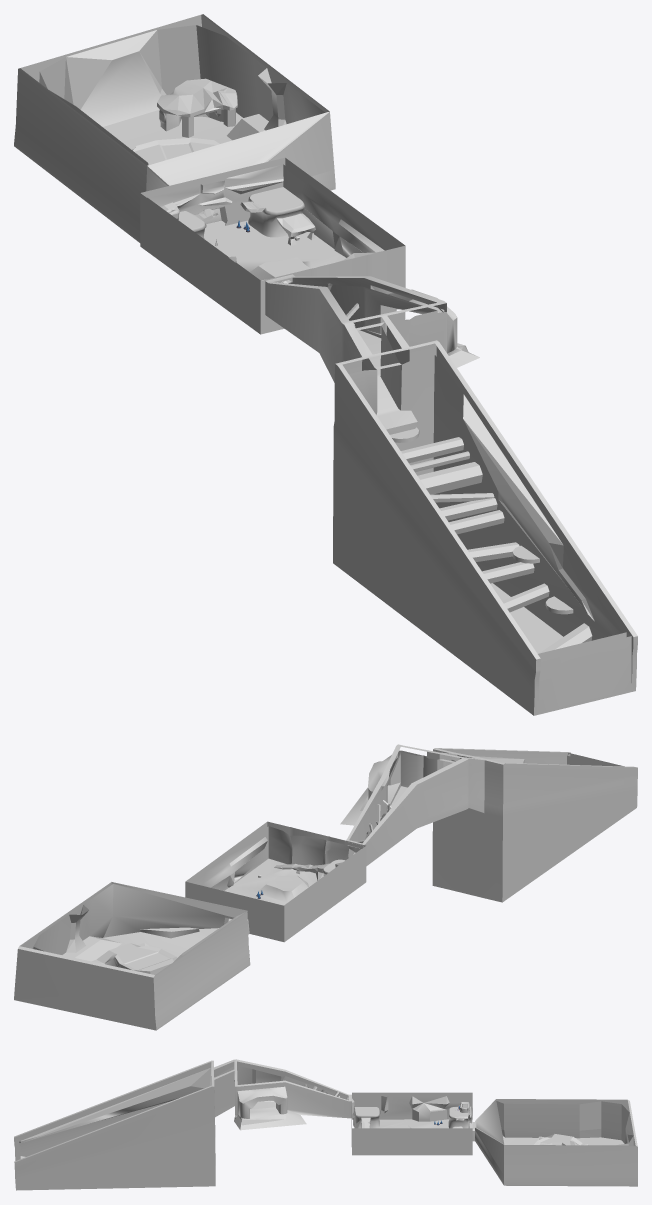
Rendered from Caverne_dontuse.fbx.
3 views of the same model, one above another, from view 1: azimuth 30°, elevation 25°; view 2: azimuth 150°, elevation 25°; view 3: azimuth 270°, elevation 25° (orthographic). The views are drawn at different scales.
Visible parts, largest first — view 1: Y_room, Main_room, Low_room_pillar001, Platform, Mini_caverne, Octi_main_Area, Low_room_pillar, Low_room_halfcylinder; view 2: Main_room, Y_room, Octi_main_Area, Platform; view 3: Y_room, Main_room, Platform, Octi_main_Area.
Part boxes in pixels (box(x1,y1,x2,y2)): Y_room: box(265, 274, 637, 715); Main_room: box(14, 14, 405, 334); Low_room_pillar001: box(401, 437, 592, 653); Platform: box(178, 187, 315, 280); Mini_caverne: box(157, 78, 237, 137); Octi_main_Area: box(132, 137, 219, 164); Low_room_pillar: box(417, 462, 482, 494); Low_room_halfcylinder: box(390, 427, 573, 614); Main_room: box(14, 821, 366, 1030); Y_room: box(340, 744, 637, 902); Octi_main_Area: box(92, 943, 176, 971); Platform: box(274, 859, 345, 880); Y_room: box(14, 1059, 351, 1190); Main_room: box(351, 1092, 637, 1186); Platform: box(353, 1106, 472, 1128); Octi_main_Area: box(534, 1134, 588, 1145).
Bounding box in the file's own units: 5111 × 3728 × 18680.
